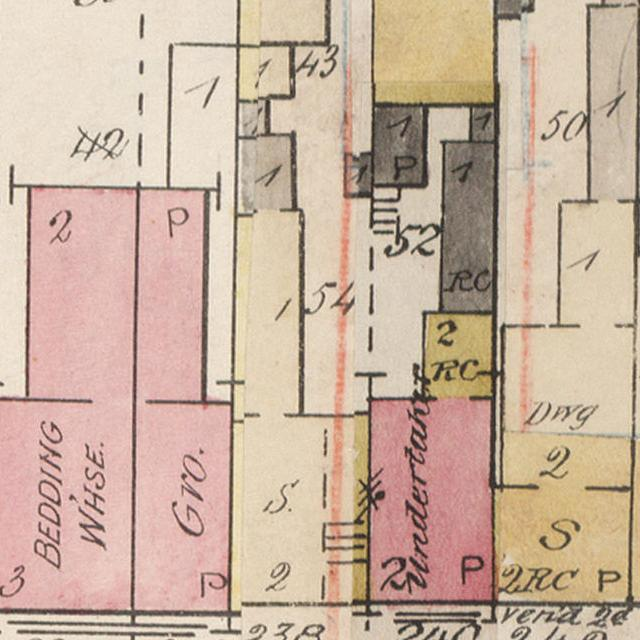building-footprints: (494, 0, 639, 603), (230, 136, 370, 604), (0, 186, 138, 612), (133, 188, 232, 613), (368, 312, 495, 602), (373, 0, 497, 105), (440, 141, 497, 312), (373, 105, 426, 185), (238, 0, 328, 43), (238, 44, 292, 98), (237, 99, 269, 134), (471, 104, 497, 141), (495, 0, 532, 16)
